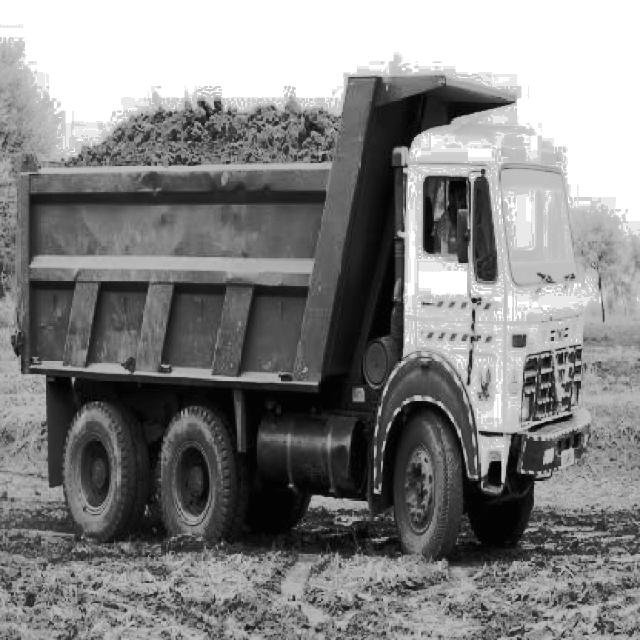HCV: (9, 71, 595, 561)
